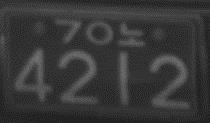0: (85, 19, 115, 46)
1: (106, 50, 142, 105)
2: (148, 53, 190, 110), (58, 49, 99, 106)
4: (13, 46, 52, 103)
7: (53, 16, 82, 44)
노: (117, 20, 145, 47)
